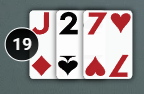2: (57, 9, 82, 39)
7: (83, 9, 110, 39)
j: (30, 9, 55, 37)
